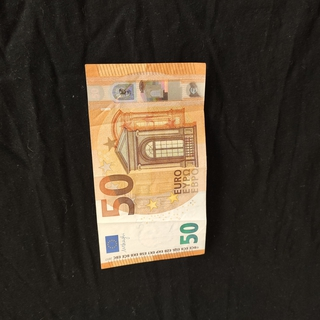50EUROFront: (83, 62, 207, 270)
